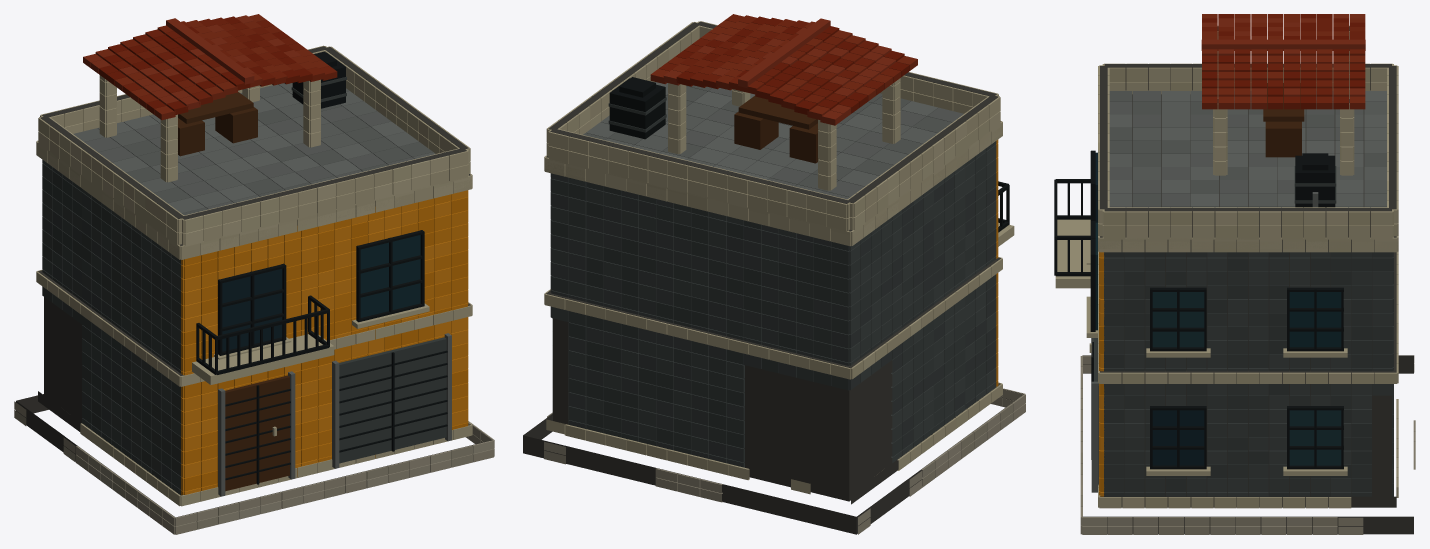
The model's file is SM_StreetFrontage_056.fbx.
The picture shows the model from 3 angles, left to right: view 1: azimuth 30°, elevation 25°; view 2: azimuth 150°, elevation 25°; view 3: azimuth 270°, elevation 25°; orthographic projection. The views are drawn at different scales.
Parts seen in each view (by area): view 1: SM_StreetFrontage_056; view 2: SM_StreetFrontage_056; view 3: SM_StreetFrontage_056.
Part boxes in pixels (x1,y1,x2,y2): SM_StreetFrontage_056: (14, 14, 494, 534); SM_StreetFrontage_056: (523, 14, 1025, 534); SM_StreetFrontage_056: (1054, 14, 1415, 534).
Bounding box in the file's own units: 8 × 7.53 × 9.15.
